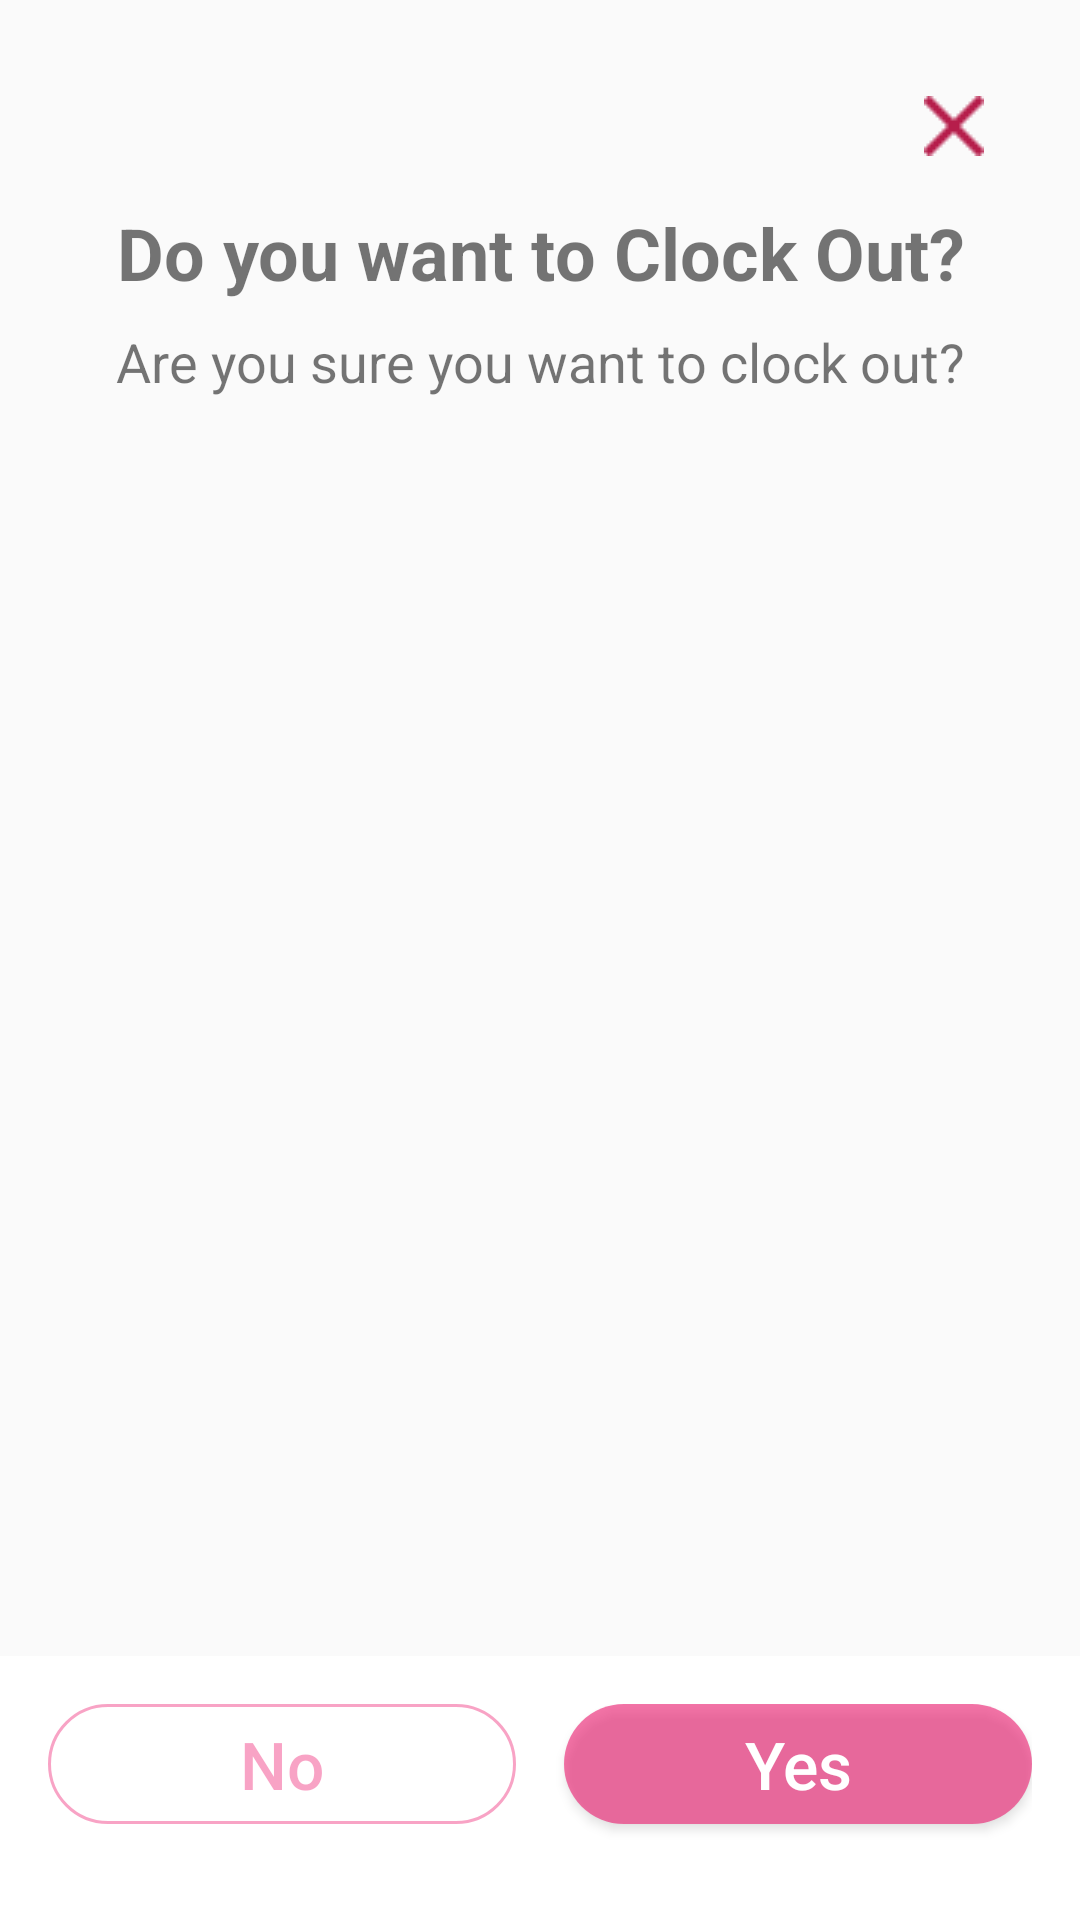

Where icons sit on this 1080x1920 app screen, as (x1, y1, x2, y2):
close: (924, 96, 984, 156)
